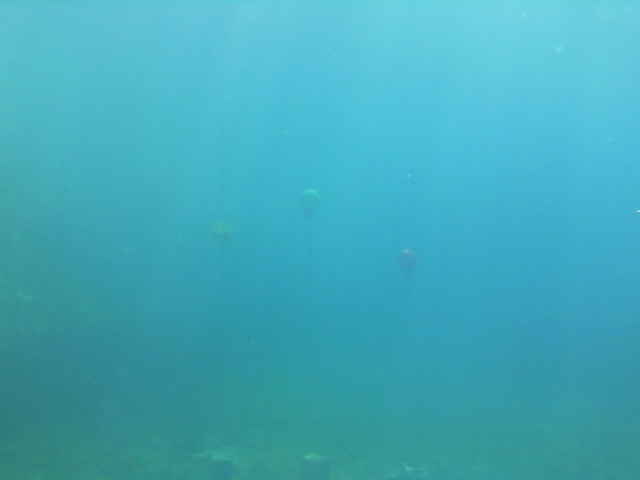buoy_green: (298, 188, 320, 219)
buoy_red: (395, 246, 421, 281)
buoy_yellow: (213, 219, 234, 245)
